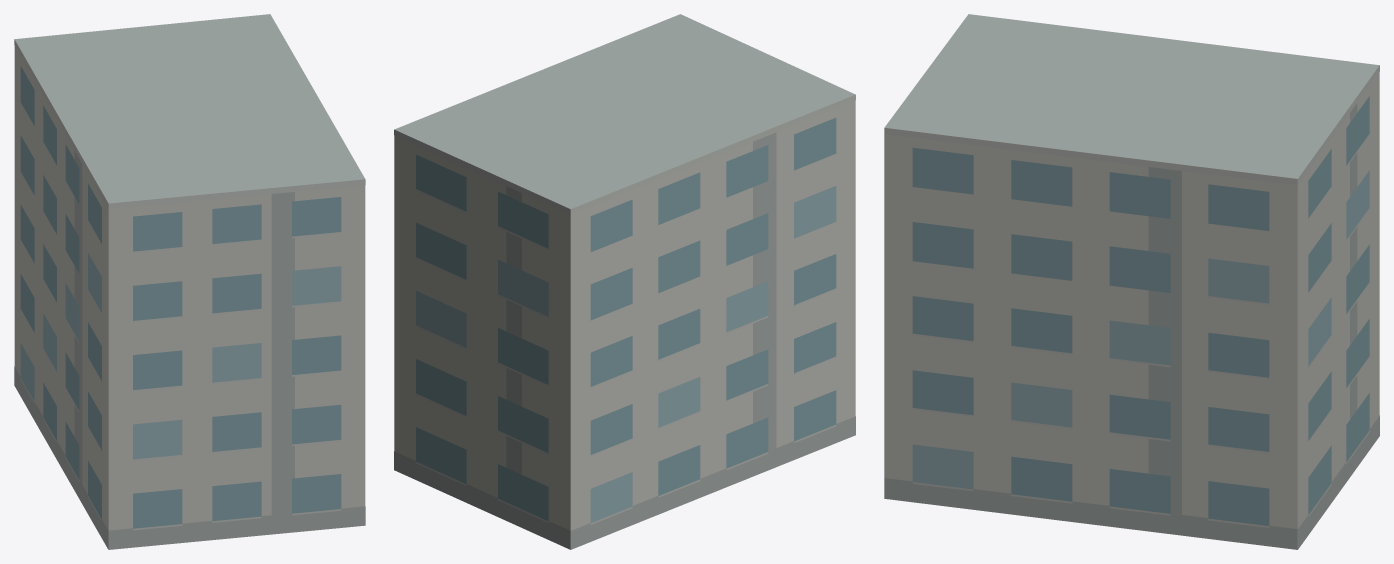
Rendered from survey-upis-32976074.glb.
3 views of the same model, side by side, from view 1: azimuth 30°, elevation 25°; view 2: azimuth 150°, elevation 25°; view 3: azimuth 270°, elevation 25° (orthographic). The views are drawn at different scales.
Parts seen in each view (by area): view 1: survey-upis-32976074.tmp; view 2: survey-upis-32976074.tmp; view 3: survey-upis-32976074.tmp.
Part boxes in pixels (x1,y1,x2,y2): survey-upis-32976074.tmp: (14,14,365,549); survey-upis-32976074.tmp: (394,14,855,549); survey-upis-32976074.tmp: (884,14,1379,549).
Size of the model in its own units: 13.45 by 14.1 by 17.08.
